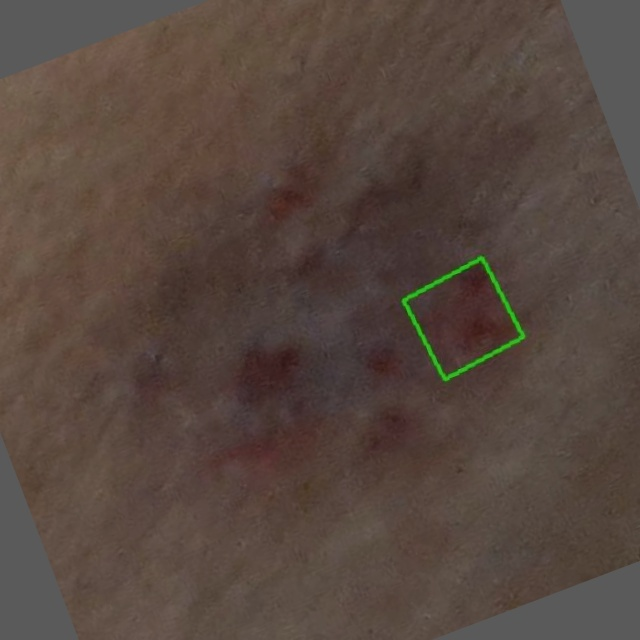Tinea Corporis: (404, 258, 524, 379)
